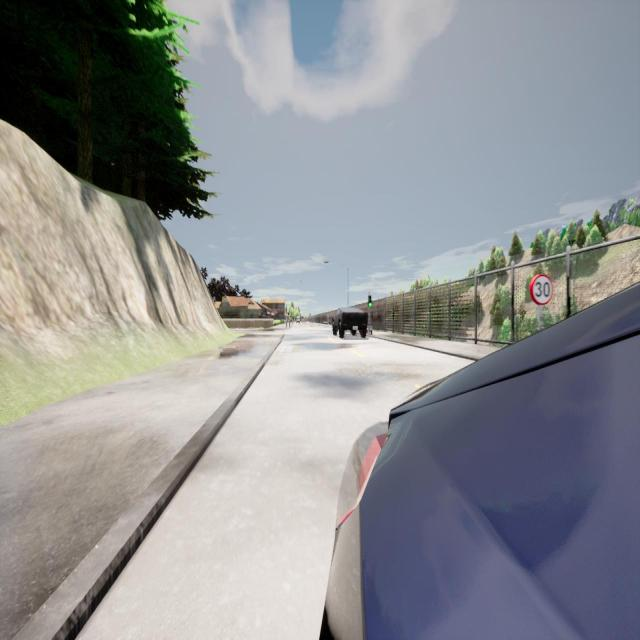Pedestrian: (285, 310, 296, 330)
Traffic_Signs: (526, 272, 553, 306)
Vehicle: (318, 286, 640, 639), (329, 308, 368, 338), (295, 316, 303, 324)
traffic_light: (368, 295, 372, 307)
